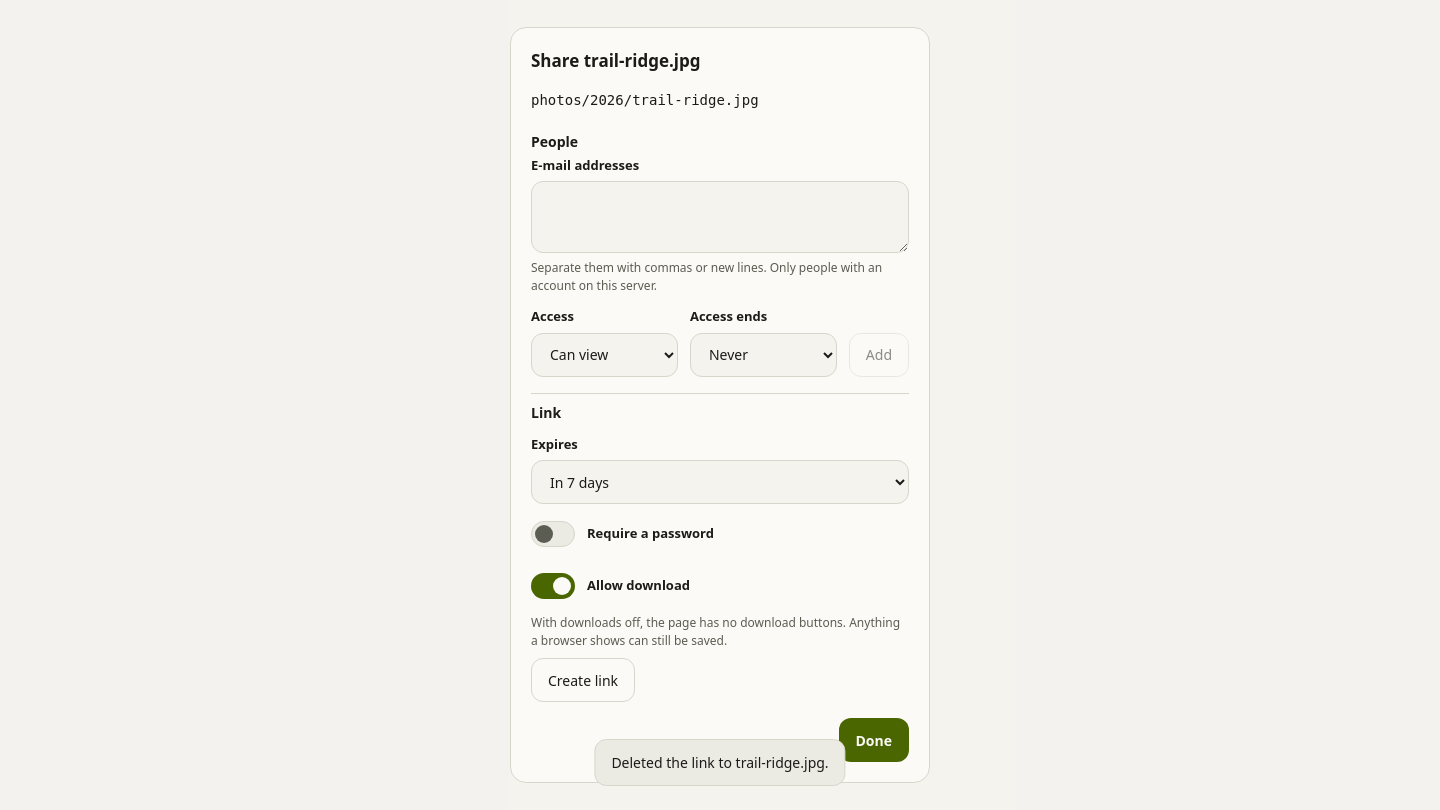
Test: create error shows in the dialog
The image size is (1440, 810).
Click the button "Create link".
click(583, 680)  # box [531,658,635,702]
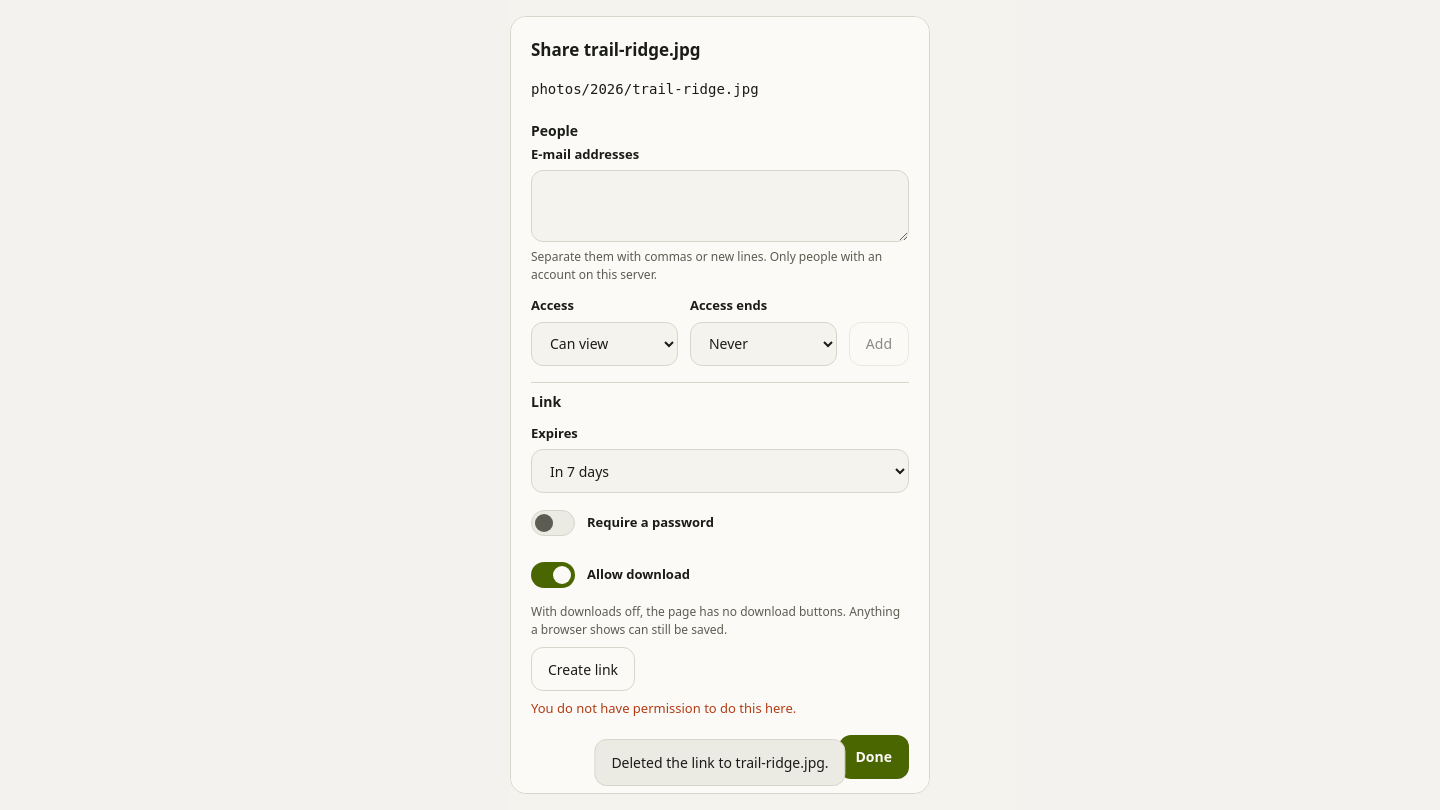
Check: the message "You do not have permission to do this here." is shown, box [531,699,796,717]
